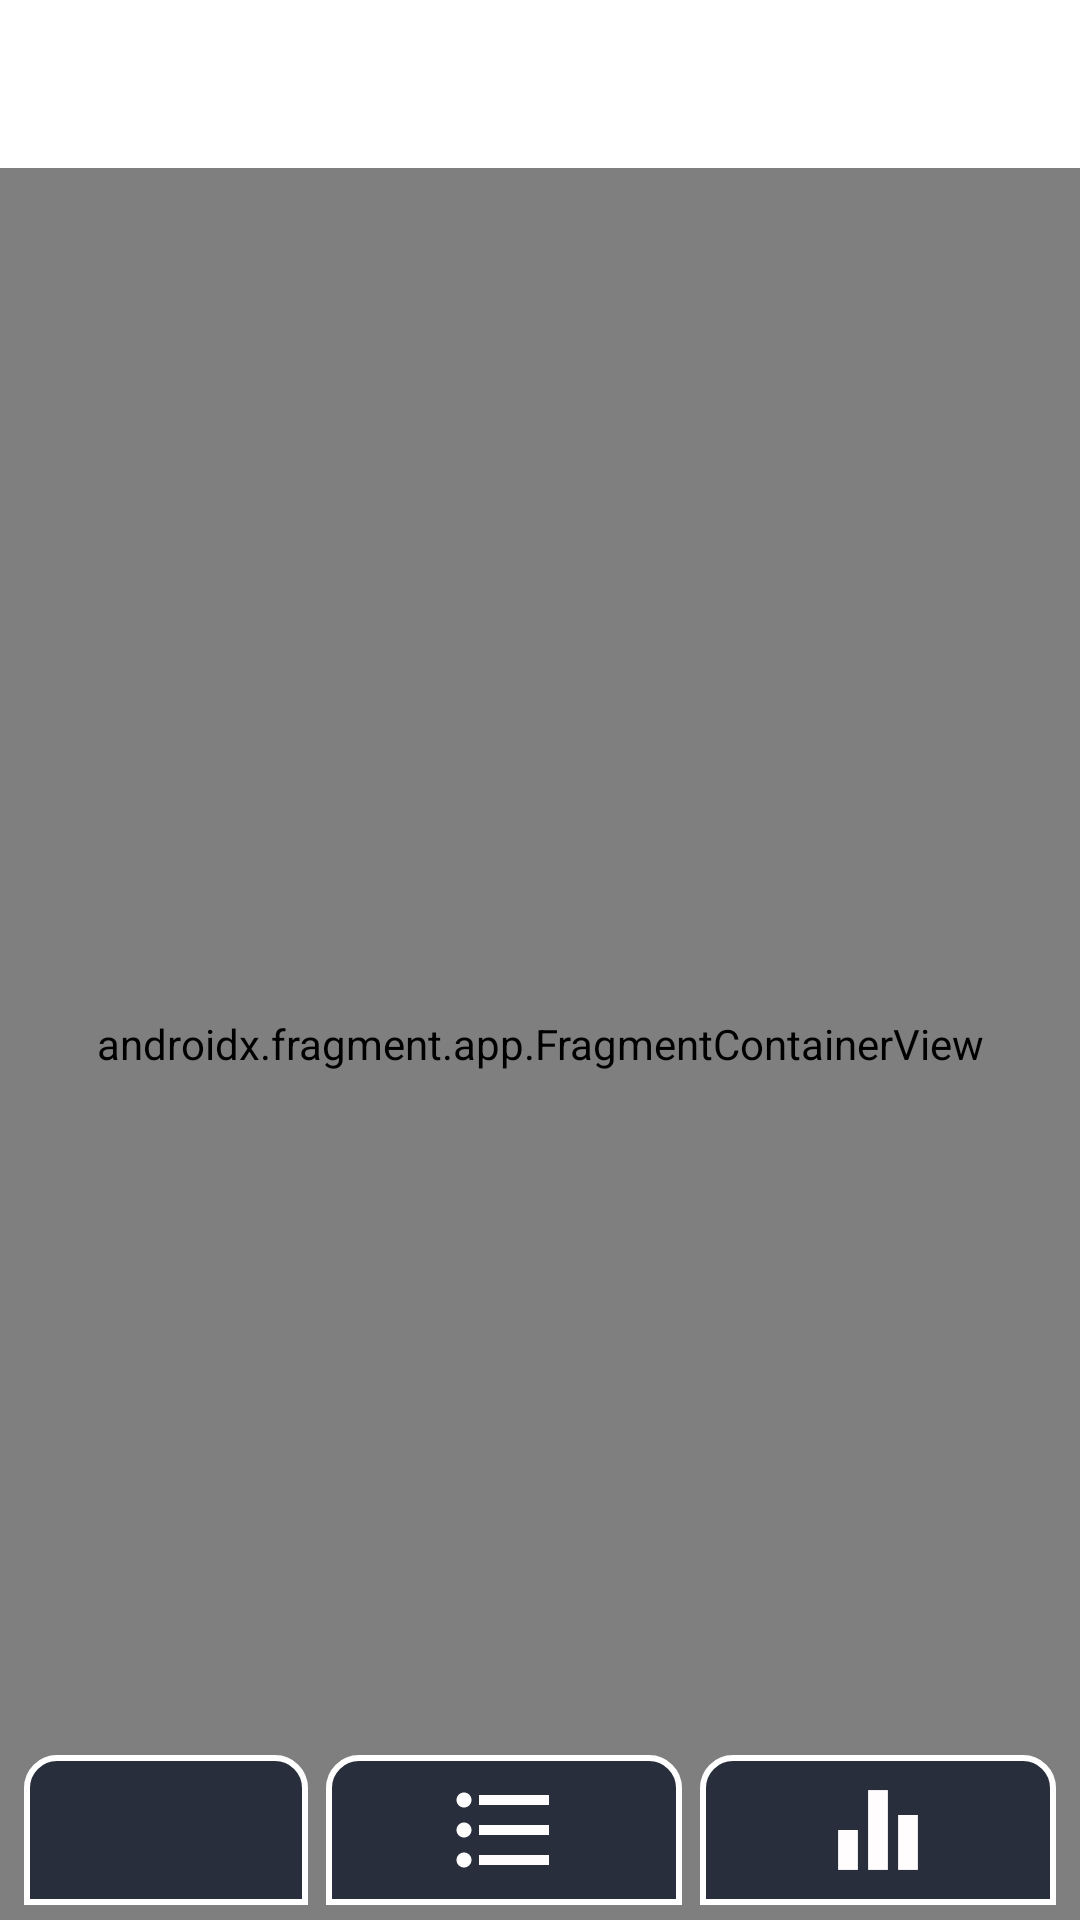

Named icons in this screenshot (1080 x 1920) and their bounding boxes, [x1=x1, y1=y1, x2=x2, y2=y2]:
equalizer: [x1=700, y1=1755, x2=1056, y2=1905]
lists: [x1=326, y1=1755, x2=682, y2=1905]
